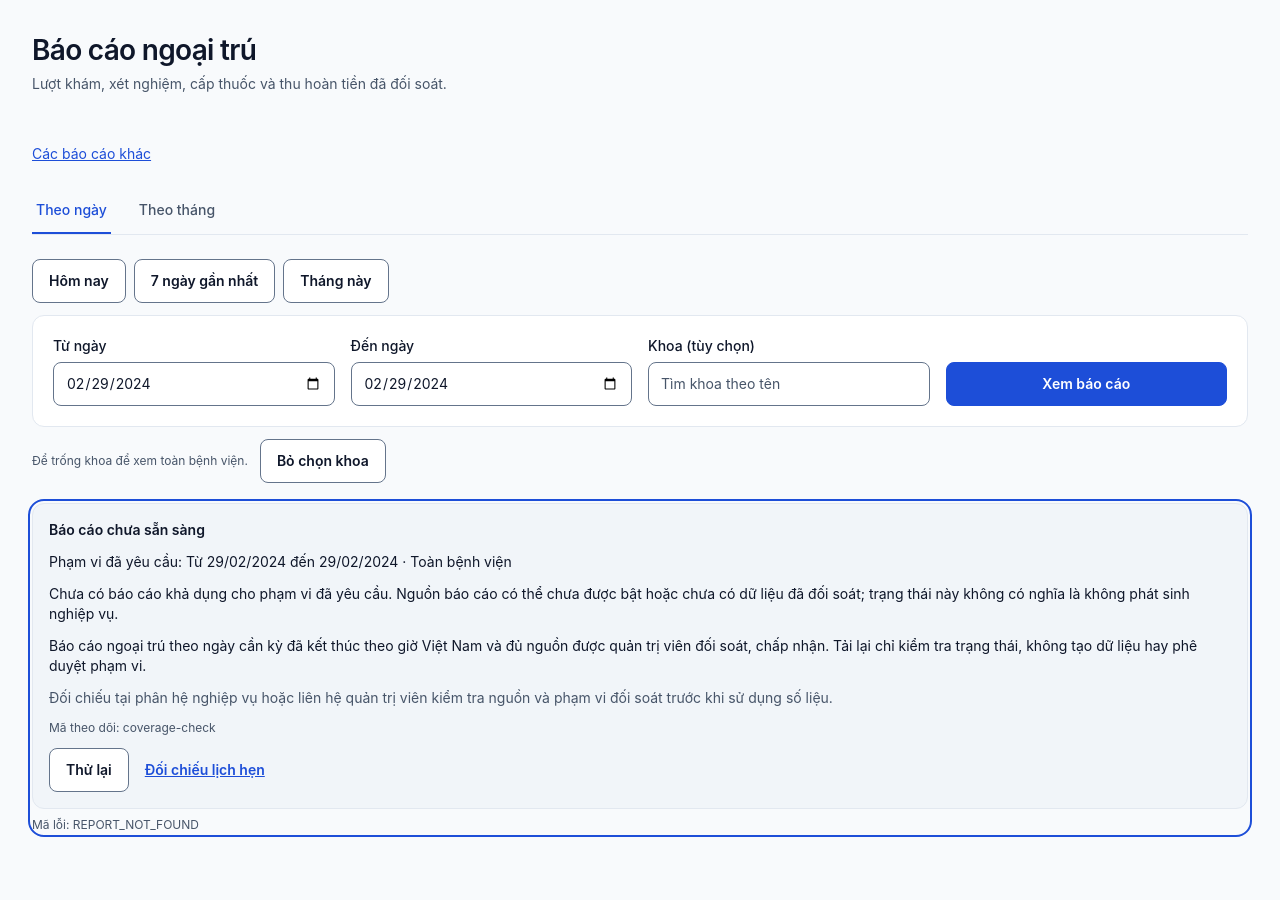
Test: Outpatient report workspace › shows missing coverage as unavailable with correlation and retries submitted scope
Check: the element "Báo cáo chưa sẵn sàng" shows "Chưa có báo cáo khả dụng", box [49,585,1190,622]
Check: the text "Tiền đã thu" is not shown
Type "2024-03-01" into the date field labelled "Đến ngày" at (491, 384), box [350,362,632,406]
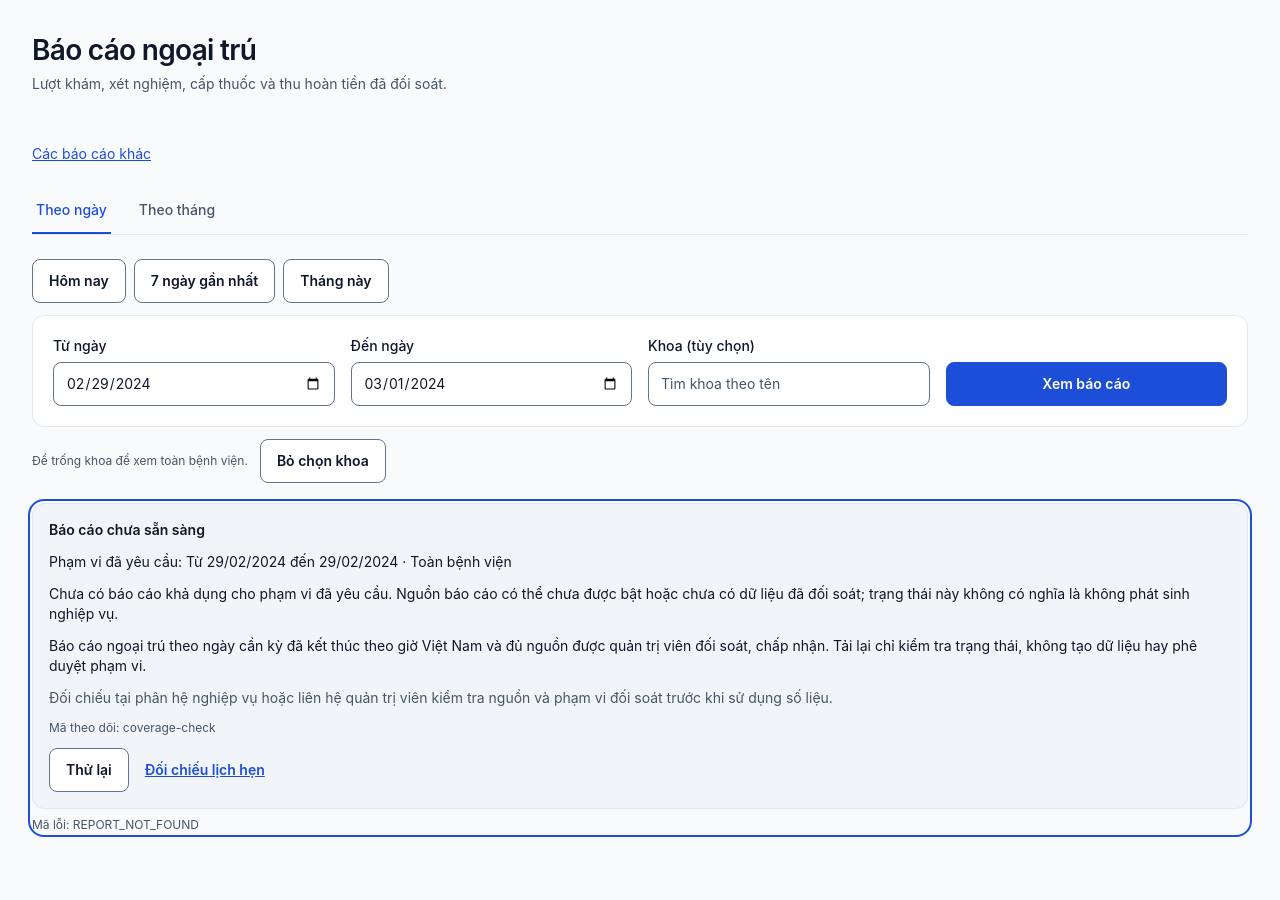
Click the button "Thử lại" at (89, 770), box [49,748,129,792]
(page scrolled)
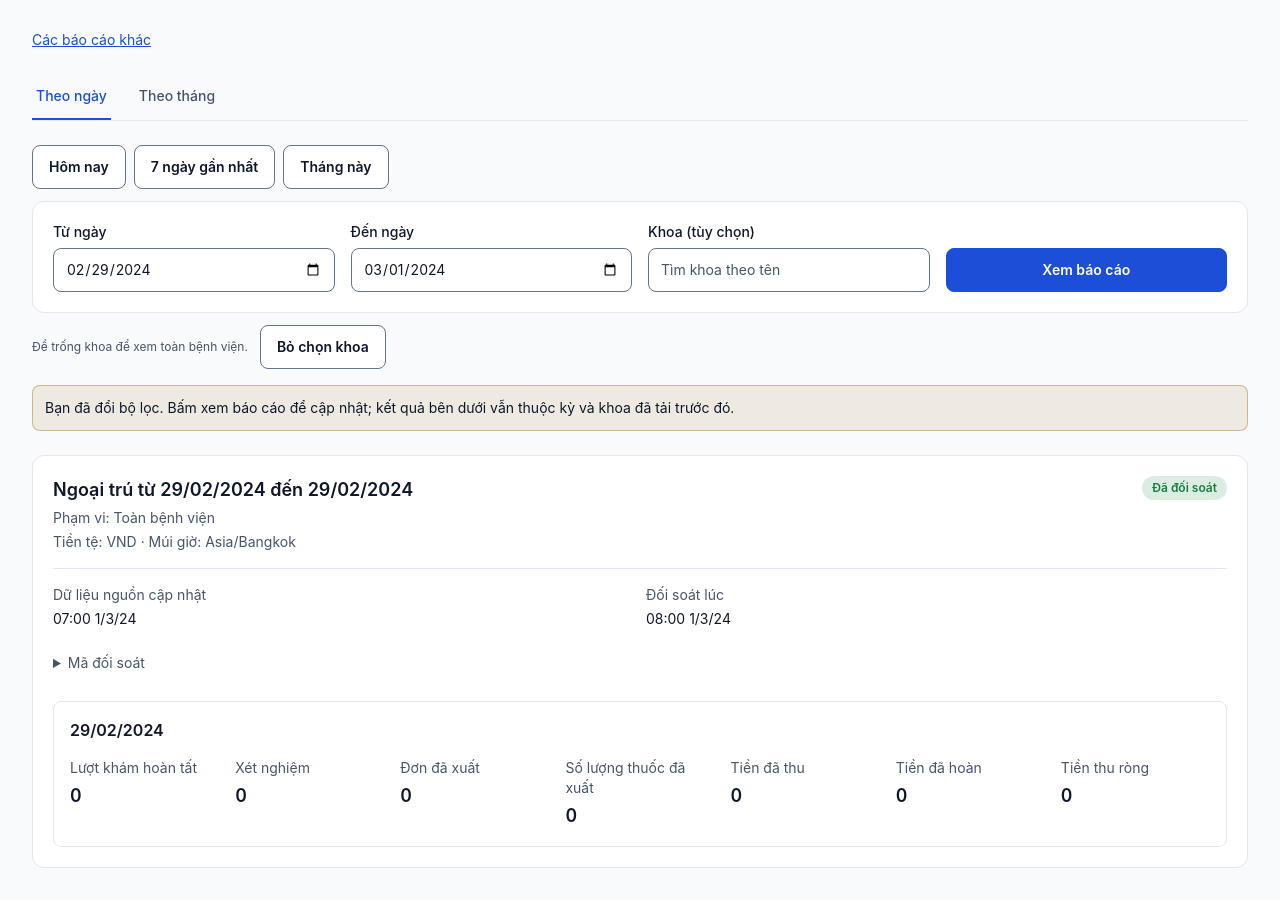
Check: the element named "Kết quả báo cáo ngoại trú" is shown, box [32,455,1248,868]
